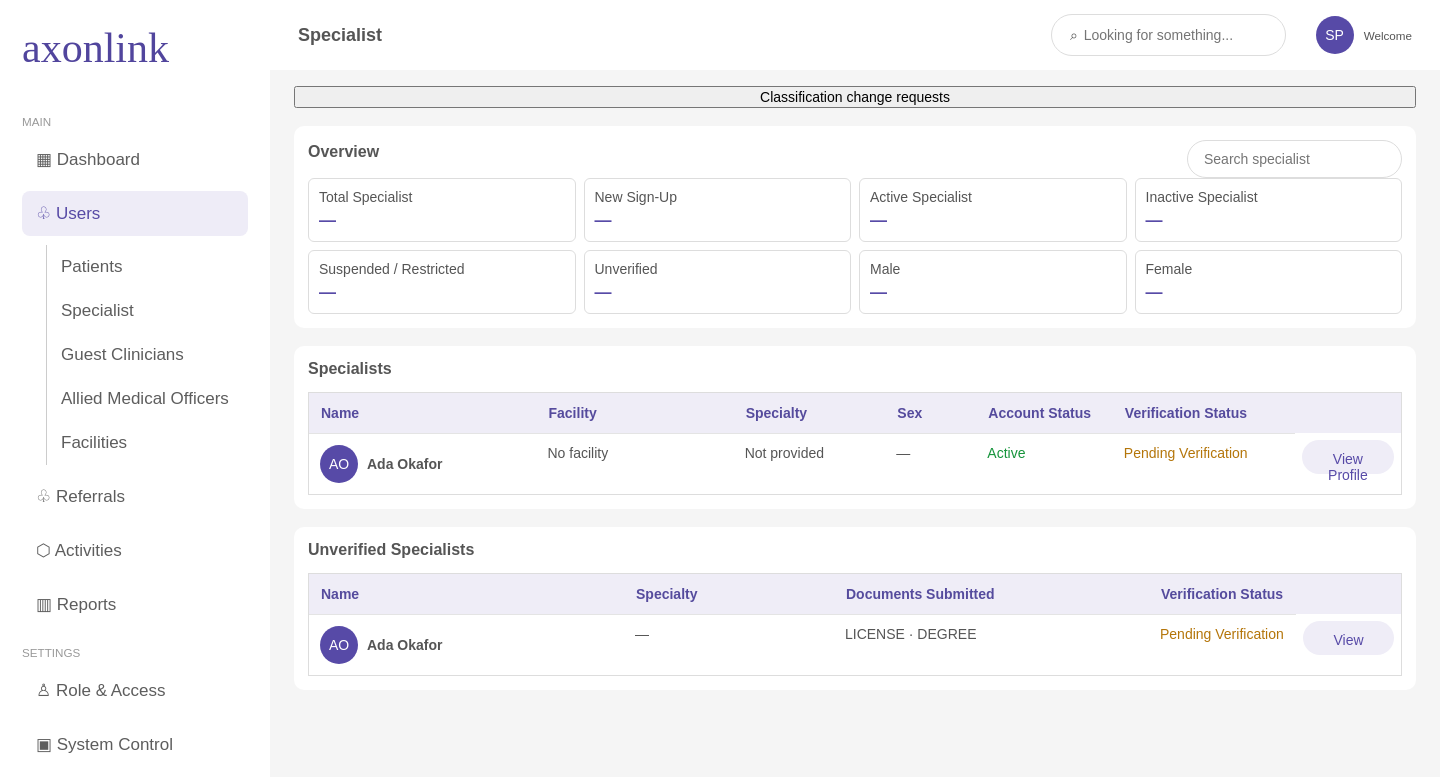
Test case: successful review refreshes profile and both tables without reloading the dashboard
Click the button "View Profile": (1348, 457) left=1302, top=440, right=1394, bottom=474
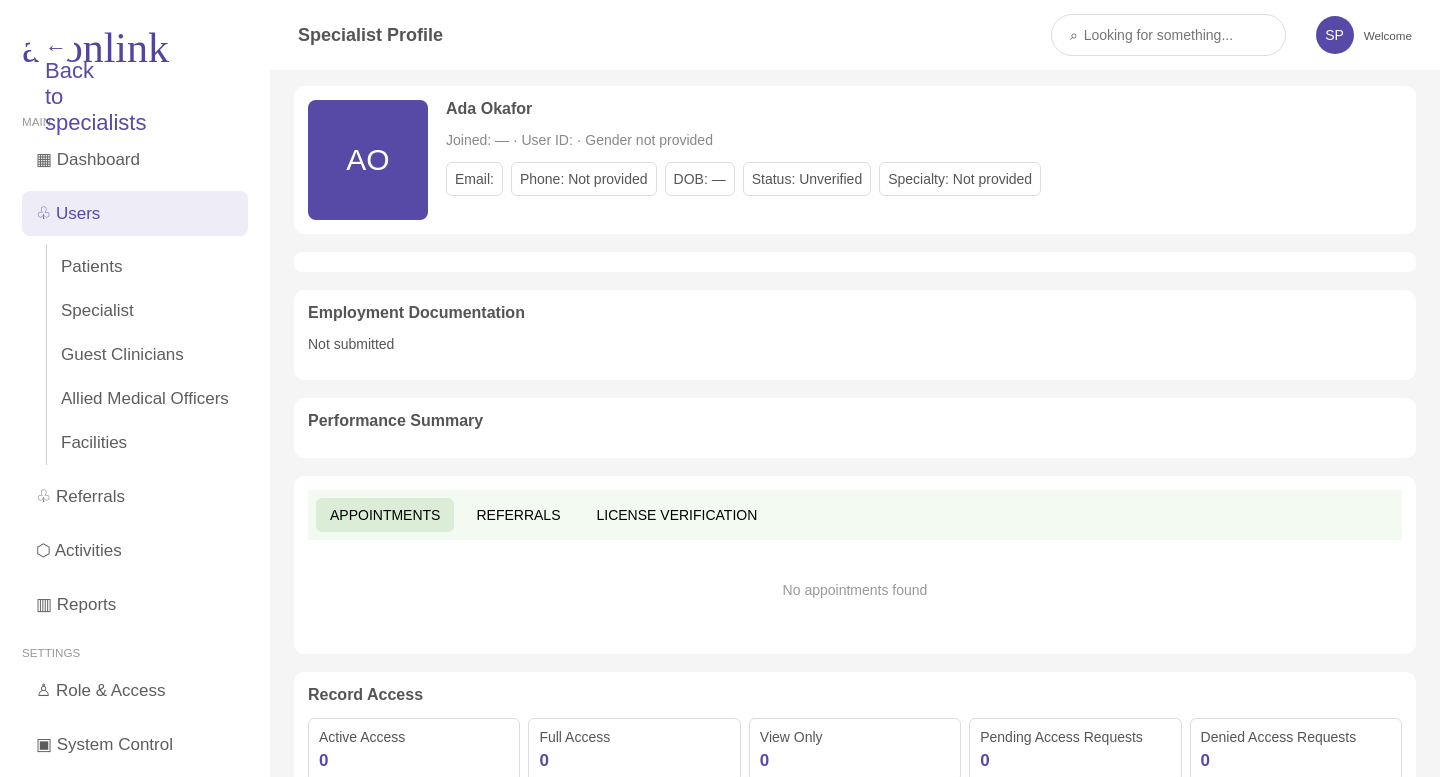
Click the button "LICENSE VERIFICATION": (677, 515) left=582, top=498, right=771, bottom=532
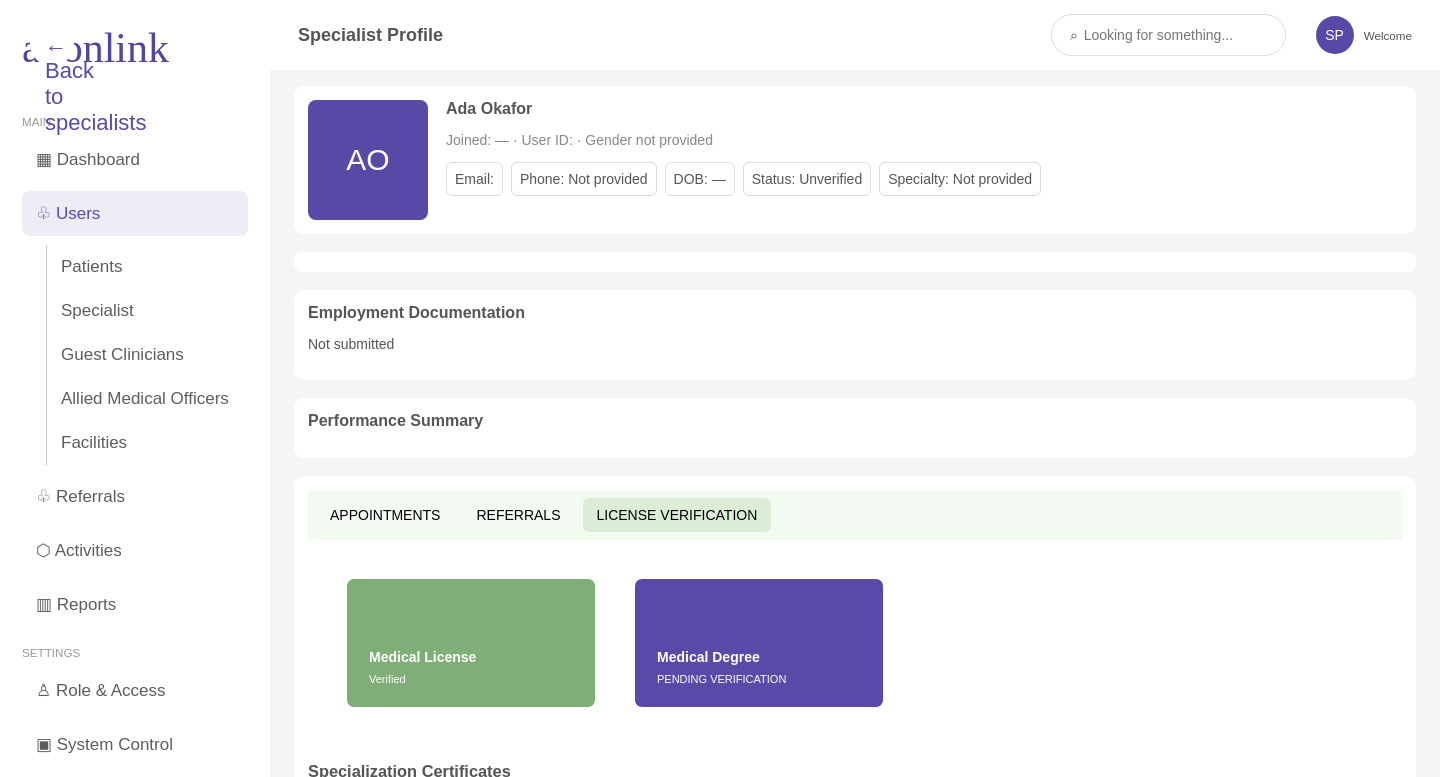
Click the button "Medical Degree PENDING VERIFICATION": (759, 643) left=634, top=578, right=884, bottom=708
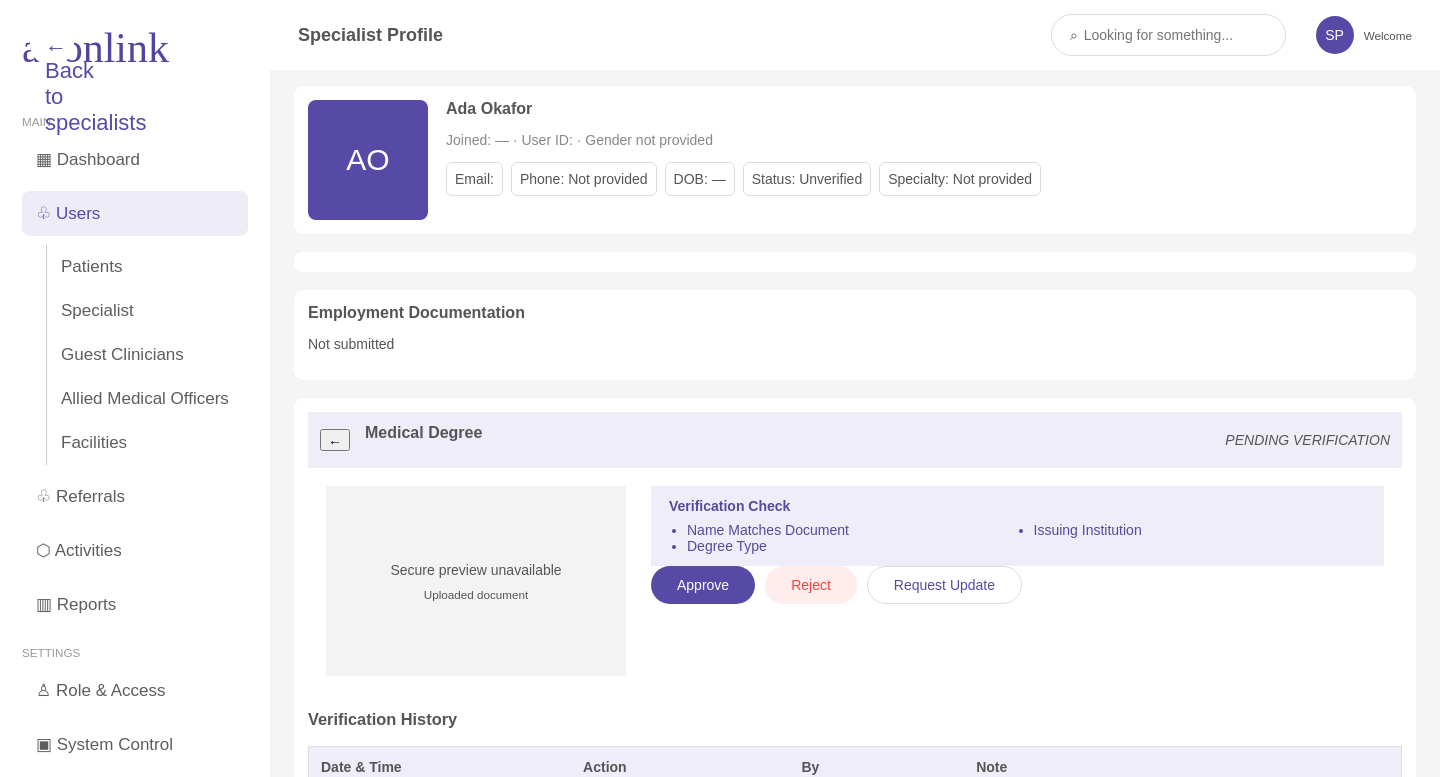
Click the button "Approve": (703, 585) left=651, top=566, right=755, bottom=604
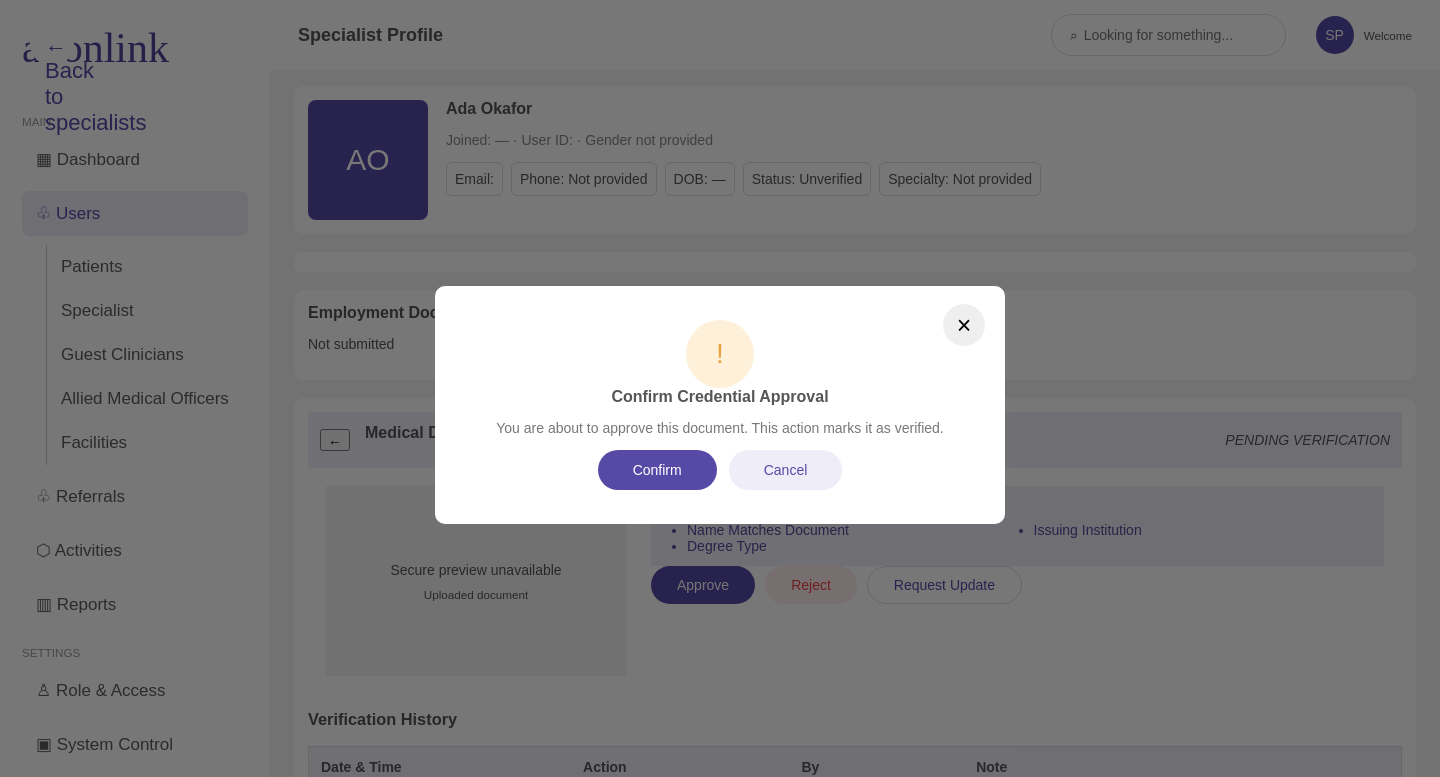
Click the button "Confirm": (657, 470) left=598, top=450, right=717, bottom=490
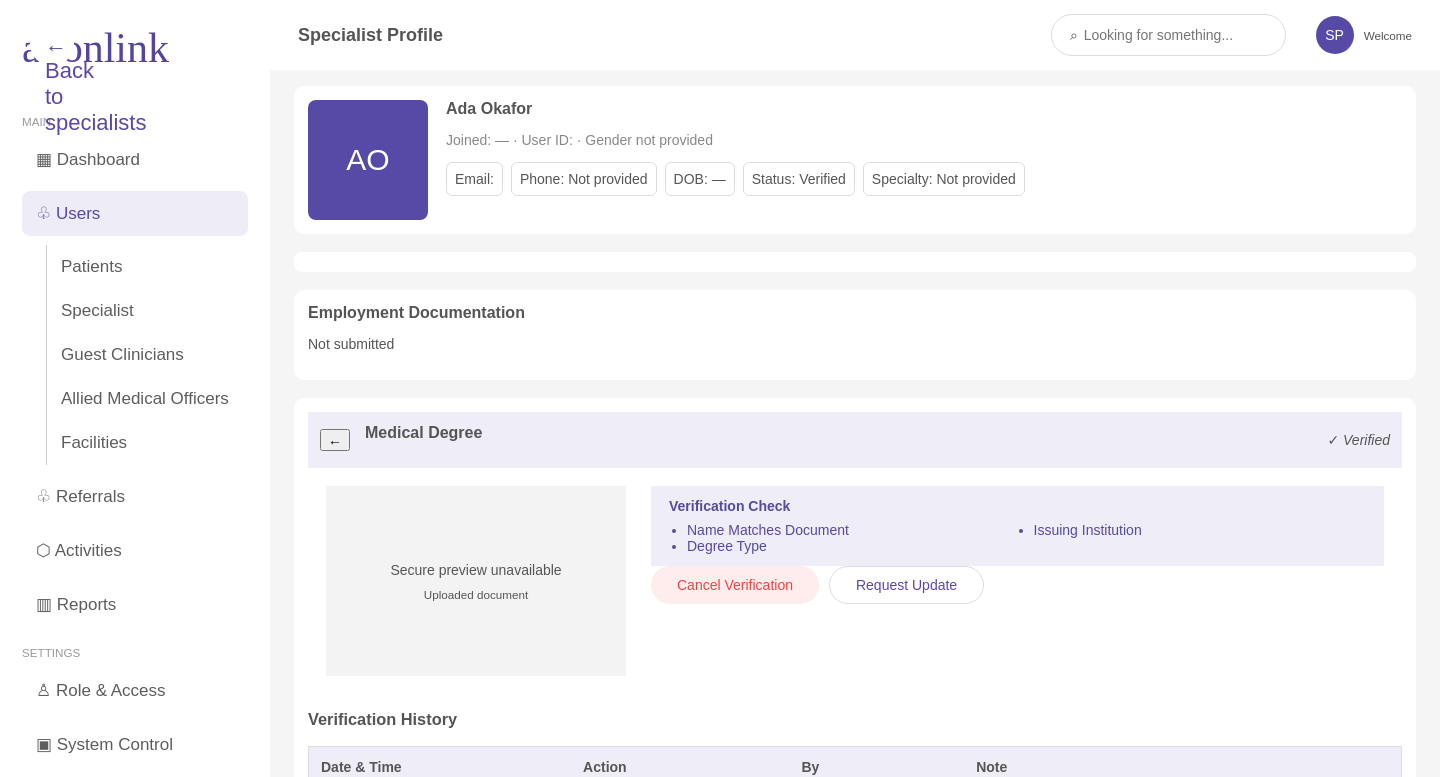
Click the button "← Back to specialists": (52, 44) left=30, top=22, right=74, bottom=66
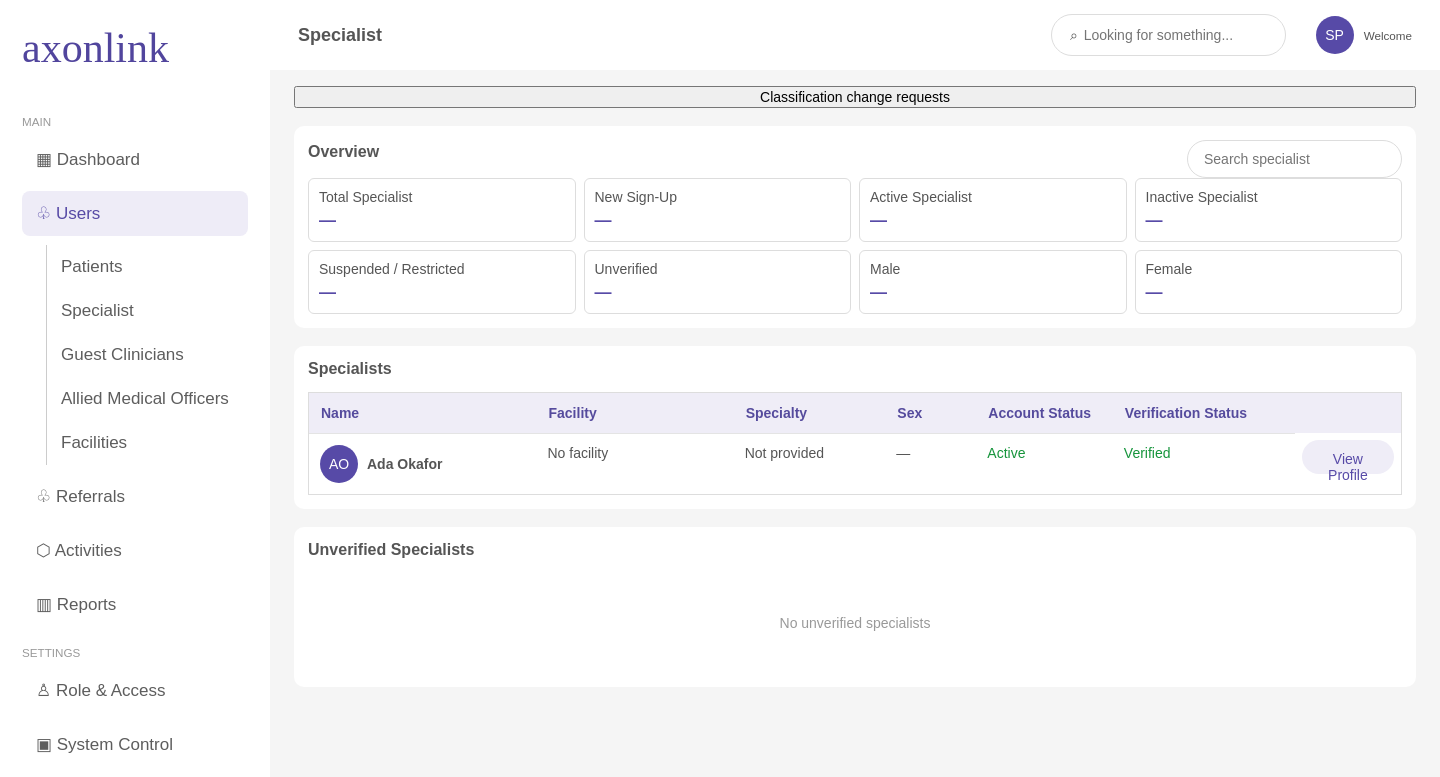
expect the text "Verified" is shown: met, box left=1113, top=433, right=1295, bottom=494
expect the text "Active" is shown: met, box left=976, top=433, right=1113, bottom=494
expect the text "No unverified specialists" is shown: met, box left=780, top=615, right=930, bottom=631
